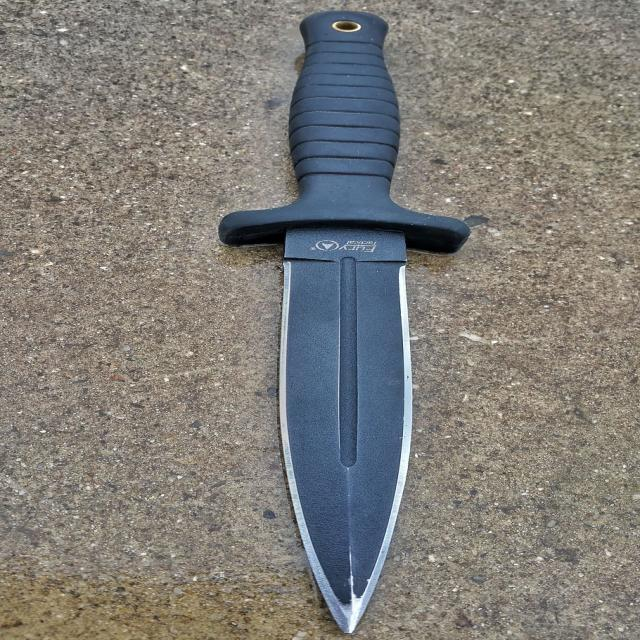knife: (219, 11, 463, 639)
